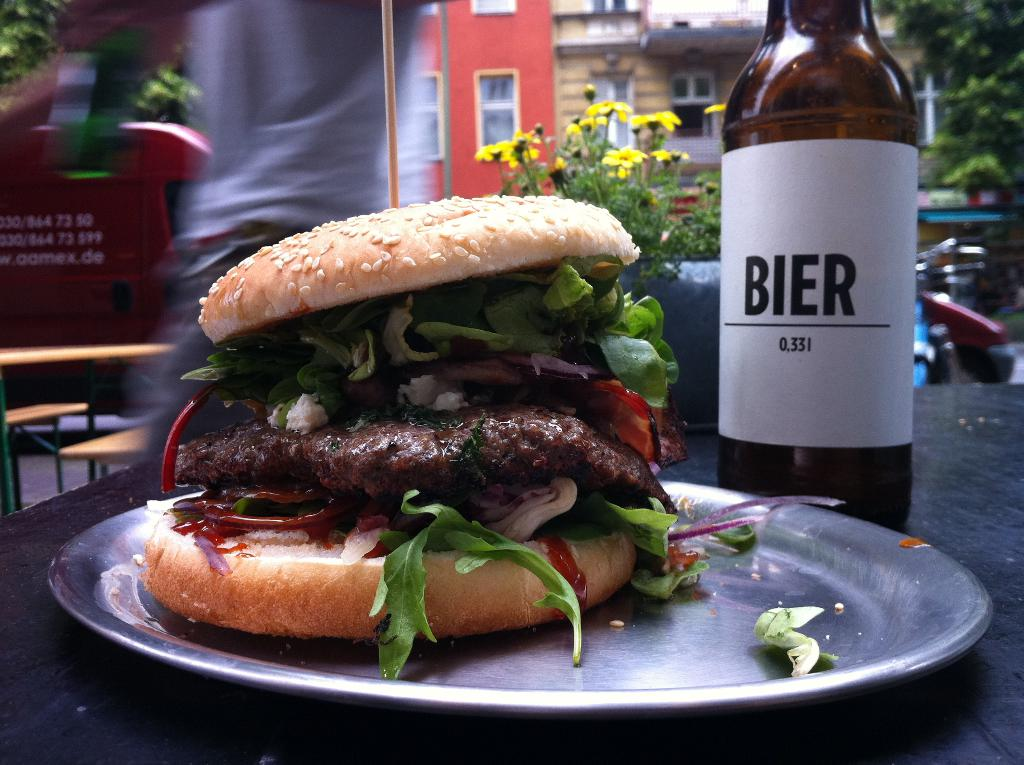Hamburger: (142, 193, 703, 682)
